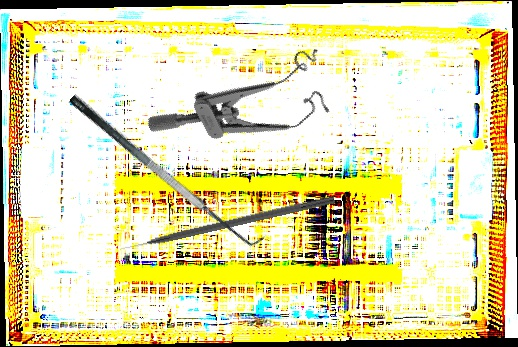Hook Surgical: (118, 193, 336, 253)
Spatula Surgical: (67, 79, 268, 258)
Speculum: (145, 33, 346, 190)
